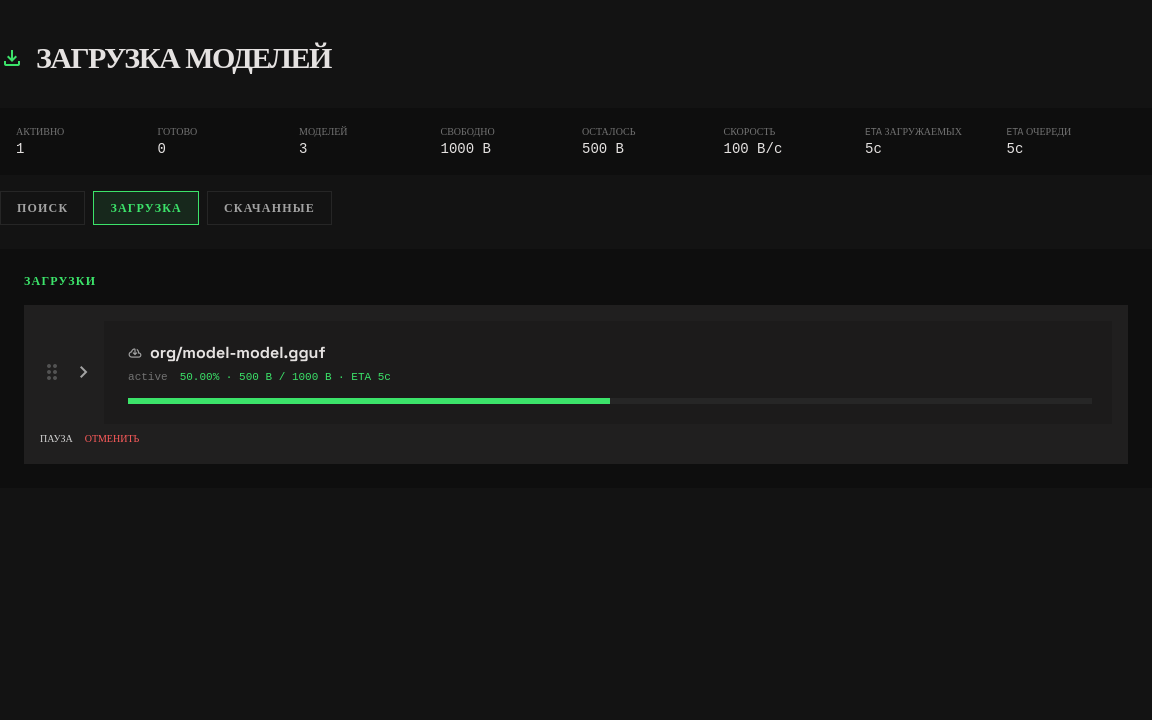
Test: ModelDownloadsPage › раскрытие плитки открывает карточку модели
Click the button with test id "download-row-toggle" at x=608, y=372, box [104, 321, 1112, 424]
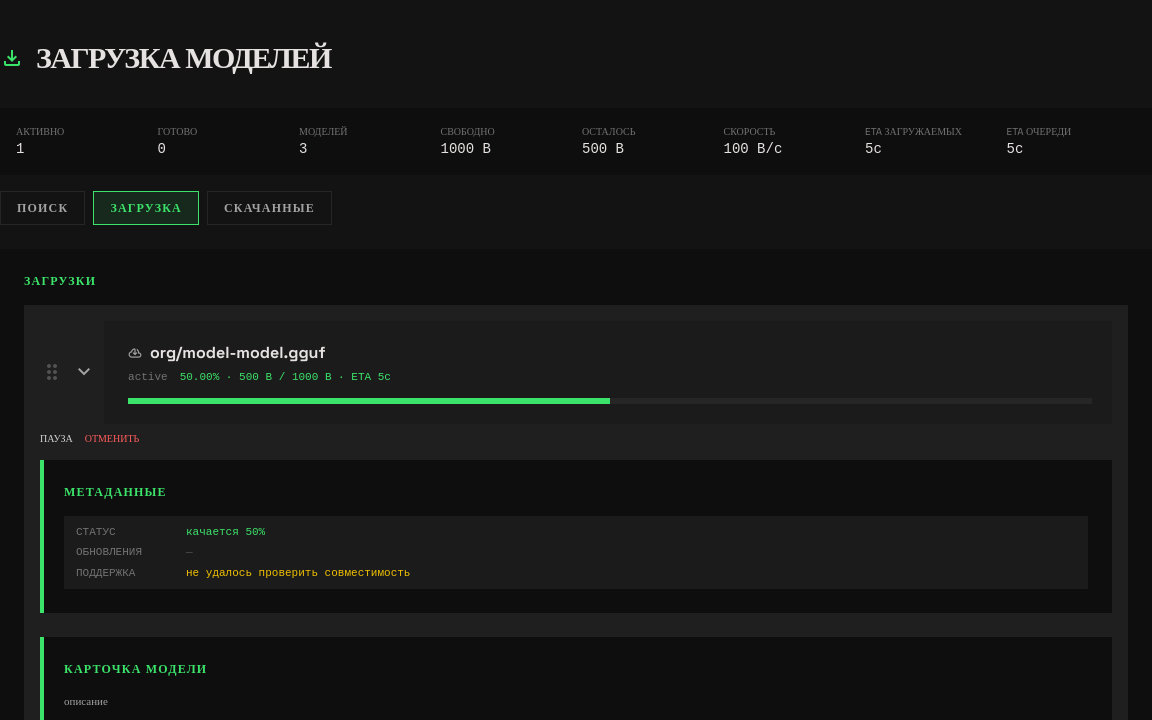
Expected: the text "описание" is shown, [64, 694, 108, 708]
